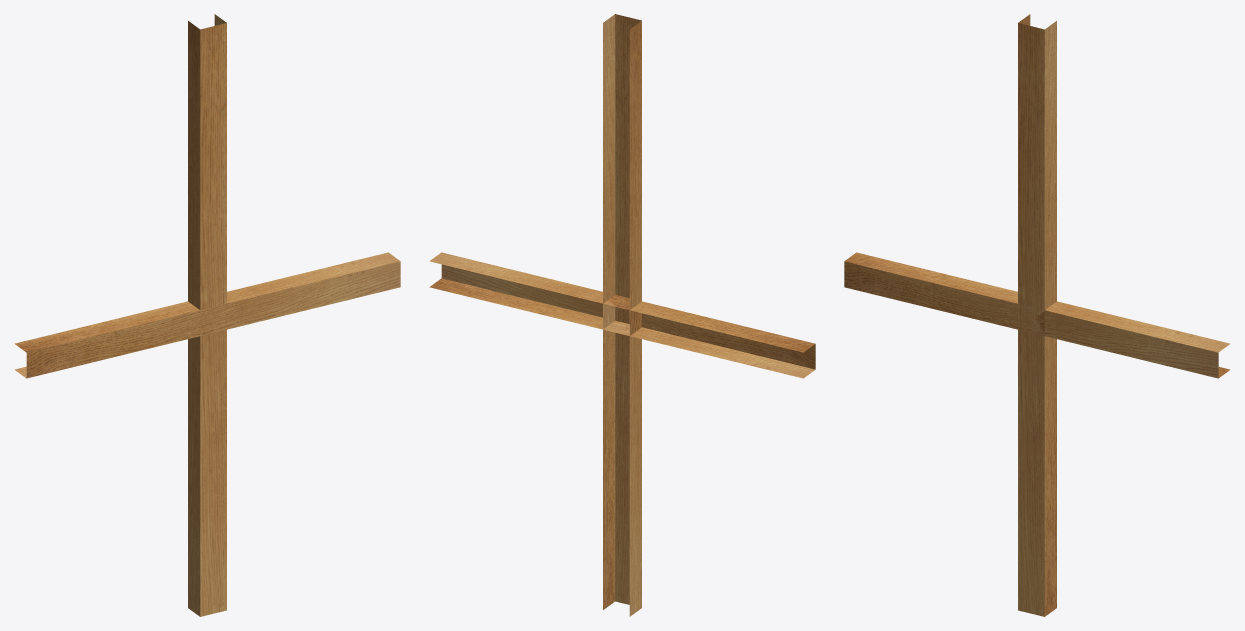
File: huakuang001.obj
3 views of the same model, side by side, from view 1: azimuth 30°, elevation 25°; view 2: azimuth 150°, elevation 25°; view 3: azimuth 330°, elevation 25° (orthographic).
Parts seen in each view (by area): view 1: Right, Left, Top, Bottom; view 2: Right, Left, Bottom, Top; view 3: Right, Top, Left, Bottom.
Boxes of the visible parts, bbox=[...] form: Right: bbox=[188, 14, 226, 616]; Left: bbox=[188, 16, 226, 616]; Top: bbox=[15, 252, 400, 378]; Bottom: bbox=[15, 253, 400, 378]; Right: bbox=[603, 14, 641, 615]; Left: bbox=[603, 14, 641, 616]; Bottom: bbox=[430, 252, 815, 378]; Top: bbox=[429, 252, 815, 376]; Right: bbox=[1018, 14, 1056, 616]; Top: bbox=[844, 252, 1230, 378]; Left: bbox=[1018, 15, 1056, 615]; Bottom: bbox=[844, 253, 1228, 377].
Size of the model in its own units: 1 by 1.5 by 0.0566.
1 material, 1 textured.
